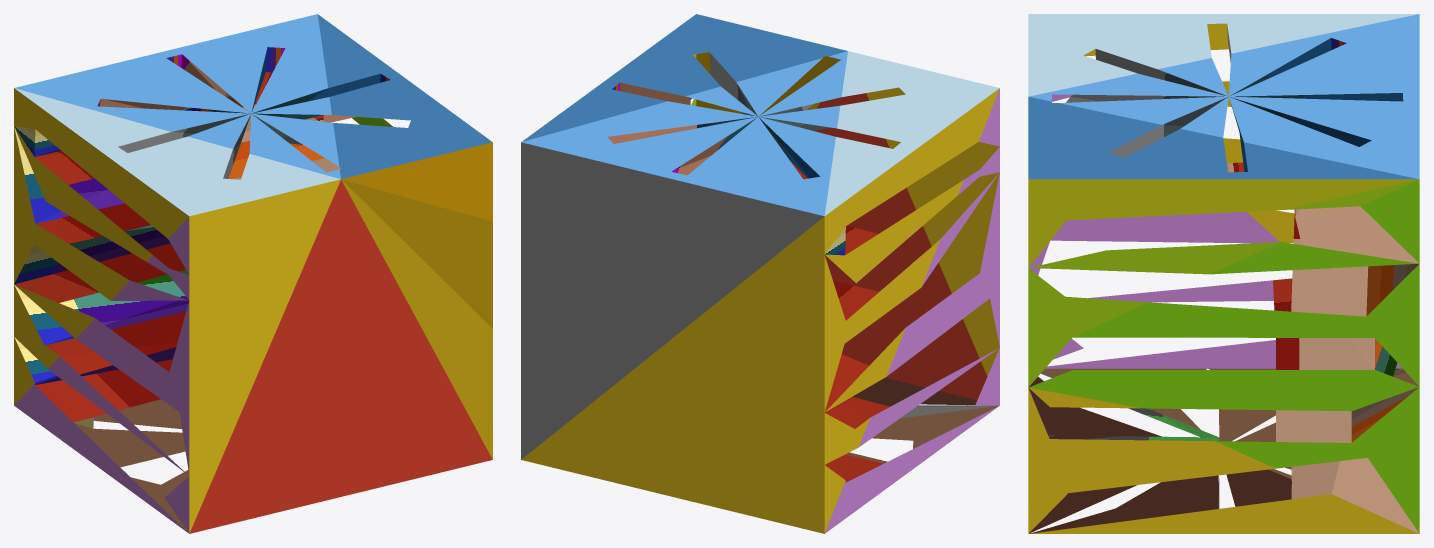
Rendered from DefaultCubeWithWithManyManyCutedPolys_NotFinished2.dae.
3 renders of one model, left to right at view 1: azimuth 30°, elevation 25°; view 2: azimuth 150°, elevation 25°; view 3: azimuth 270°, elevation 25°, orthographic. The views are drawn at different scales.
Parts seen in each view (by area): view 1: Original; view 2: Original; view 3: Original.
Part boxes in pixels (x1=…): Original: x1=14, y1=14, x2=492, y2=533; Original: x1=521, y1=14, x2=999, y2=533; Original: x1=1028, y1=14, x2=1419, y2=533.
Size of the model in its own units: 1 by 1 by 1.
Materials: 1 (1 with a texture image).
